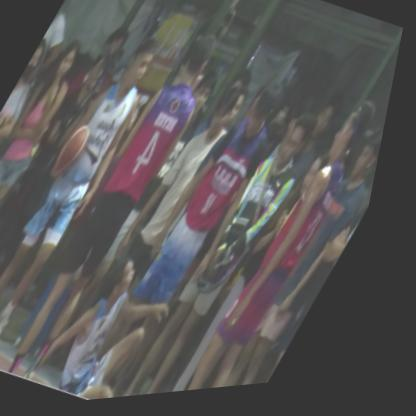basketball: (50, 115, 107, 188)
